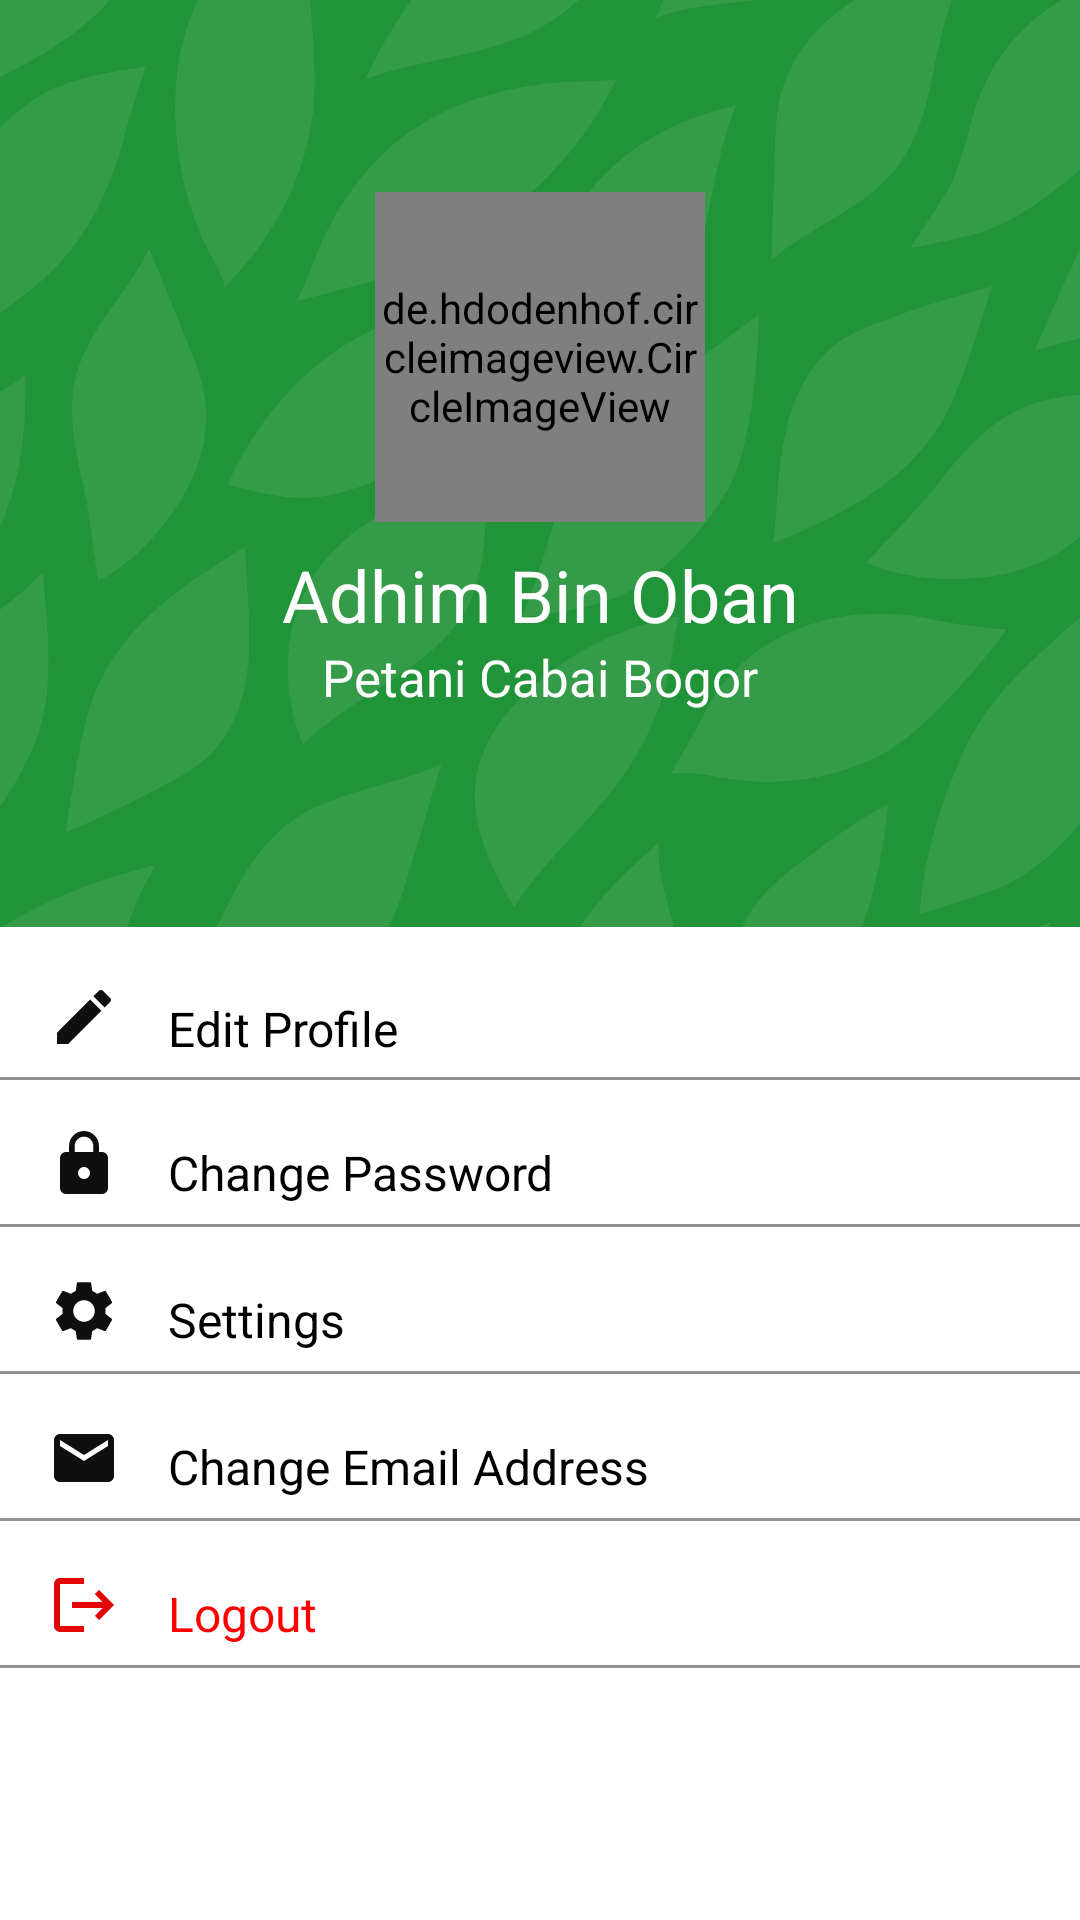

Point at icon controls on the screen. Image size 1080x1920, points as (x=x, y=y).
edit email: (x=84, y=1458)
edit password: (x=84, y=1162)
